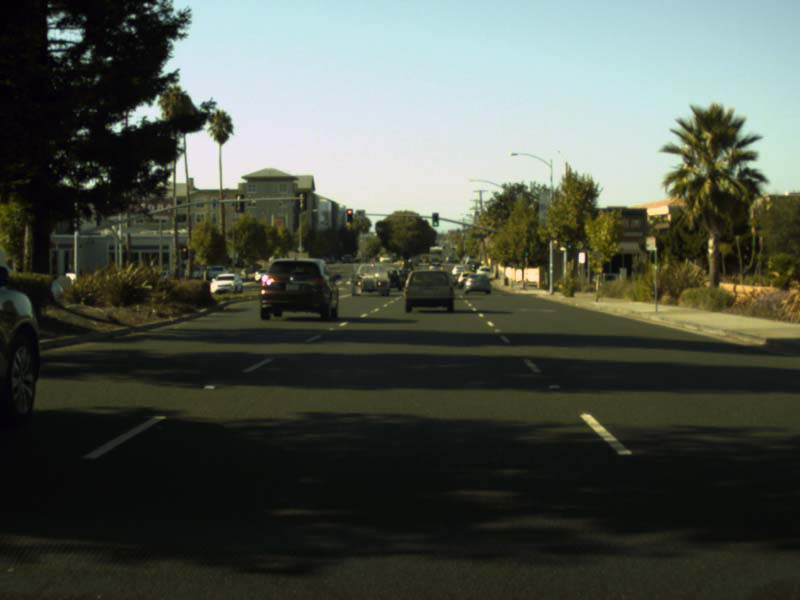Green: (431, 212, 438, 226), (566, 236, 572, 249), (524, 246, 528, 256)
Red: (180, 245, 187, 258), (346, 208, 352, 222)
